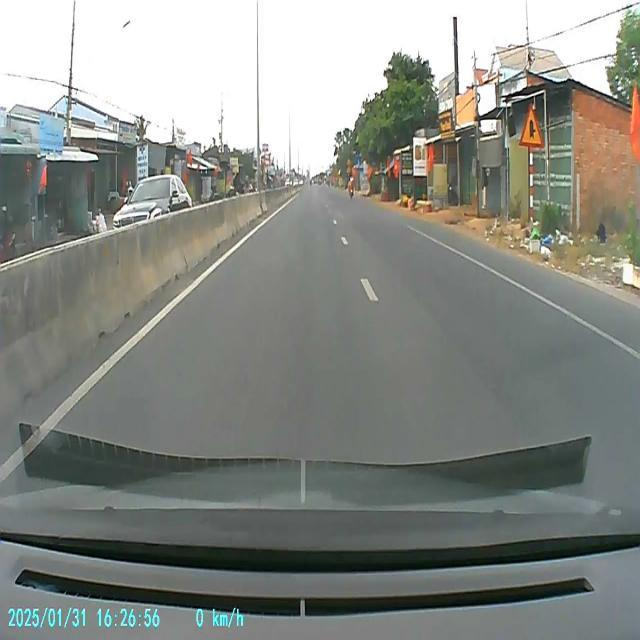207-giao-nhau-voi-duong-khong-uu-tien: (520, 103, 544, 150)
